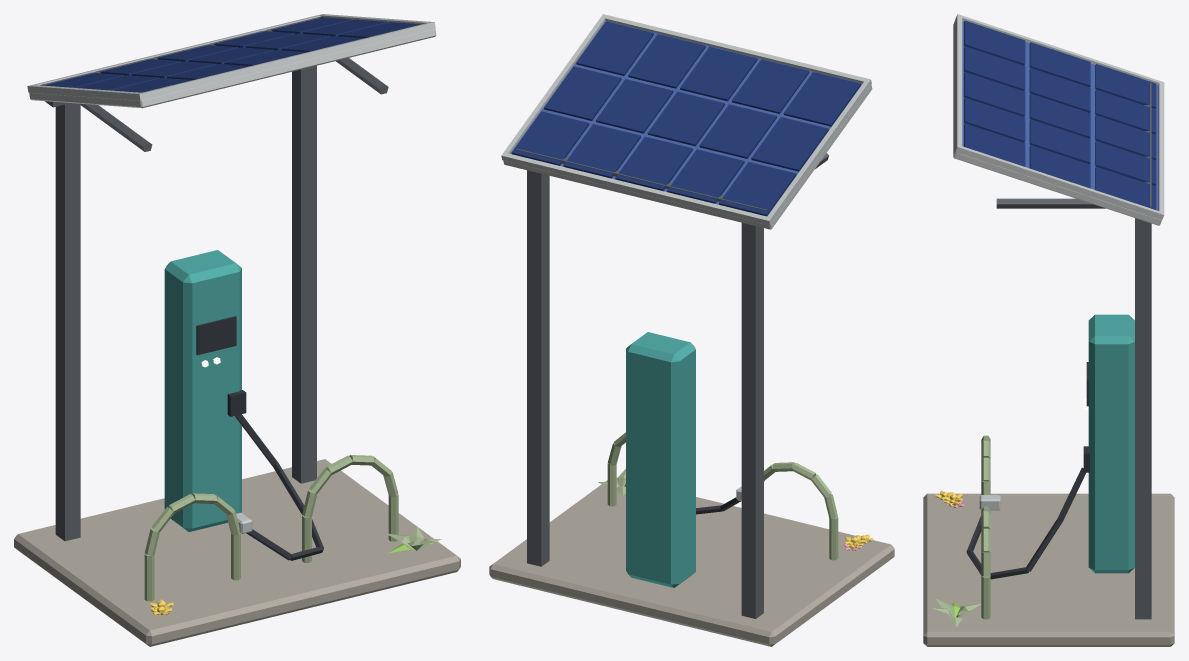
Rendered from bike_charger.glb.
3 views of the same model, side by side, from view 1: azimuth 30°, elevation 25°; view 2: azimuth 150°, elevation 25°; view 3: azimuth 270°, elevation 25° (orthographic). The views are drawn at different scales.
Visible parts, largest first — view 1: Bike Charger; view 2: Bike Charger; view 3: Bike Charger.
Boxes of the visible parts, x1,y1,x2,y2 form: Bike Charger: (14,14,460,646); Bike Charger: (489,14,894,646); Bike Charger: (923,14,1174,646).
Bounding box in the file's own units: 1.6 × 2.62 × 1.2.
2 materials, 1 textured.
